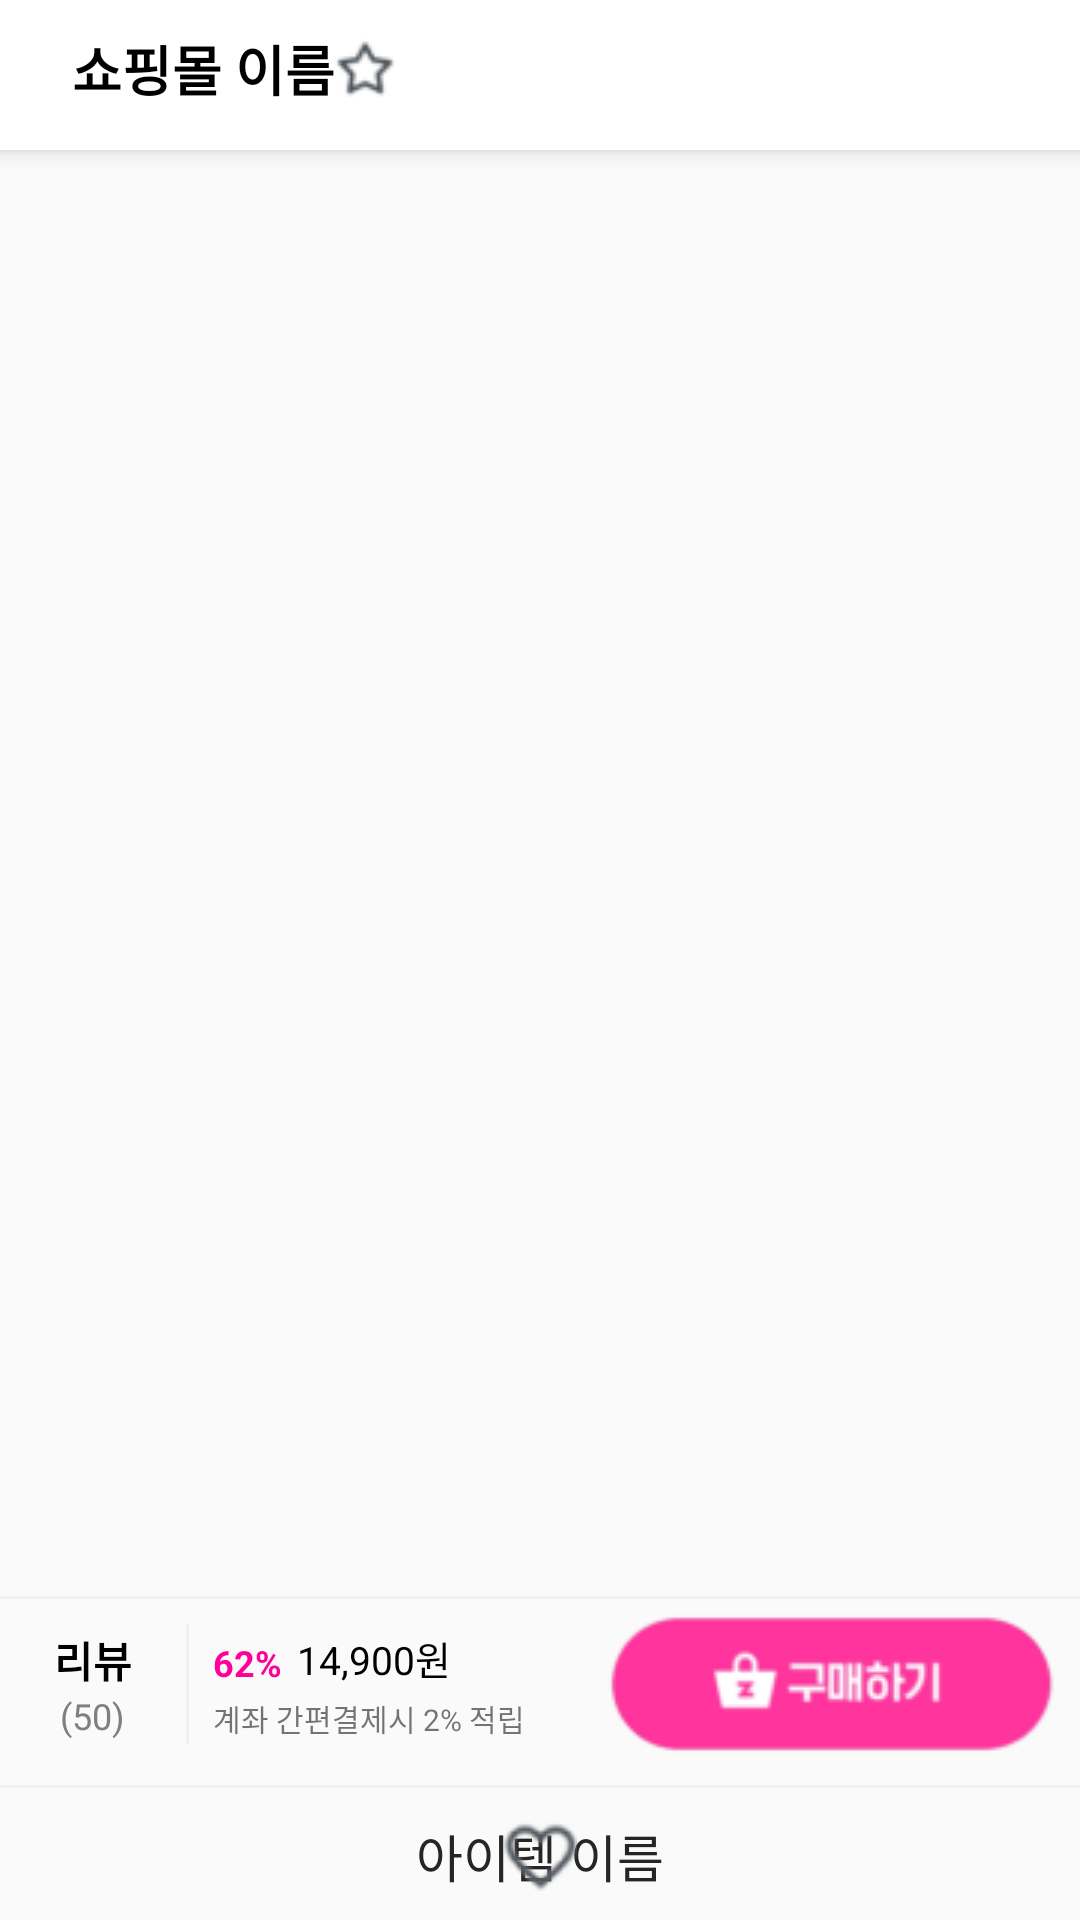

Named icons in this screenshot (1080px x 1920px) and their bounding boxes, [x1, y1, x2, y2]:
checkbox custom shop favorite: [337, 41, 393, 95]
